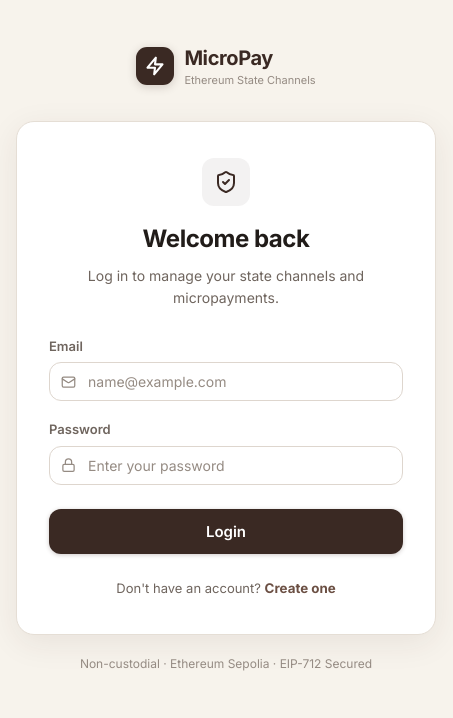
Auth Pages › LoginPage requires email and password
This screenshot has width=453, height=718.
Click the button "Login": (226, 531) [49,509,403,554]
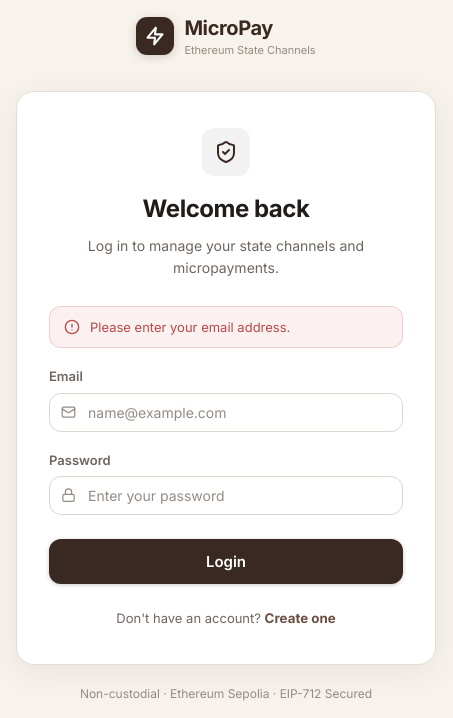
Check: the text "Please enter your email address." is shown, box [90,317,290,337]
